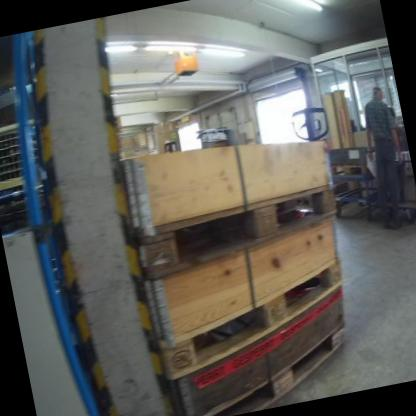pallet: (150, 255, 354, 381), (132, 182, 344, 280), (165, 322, 355, 416)
pallet_truck: (289, 101, 330, 143)
stillage: (0, 118, 49, 194)
